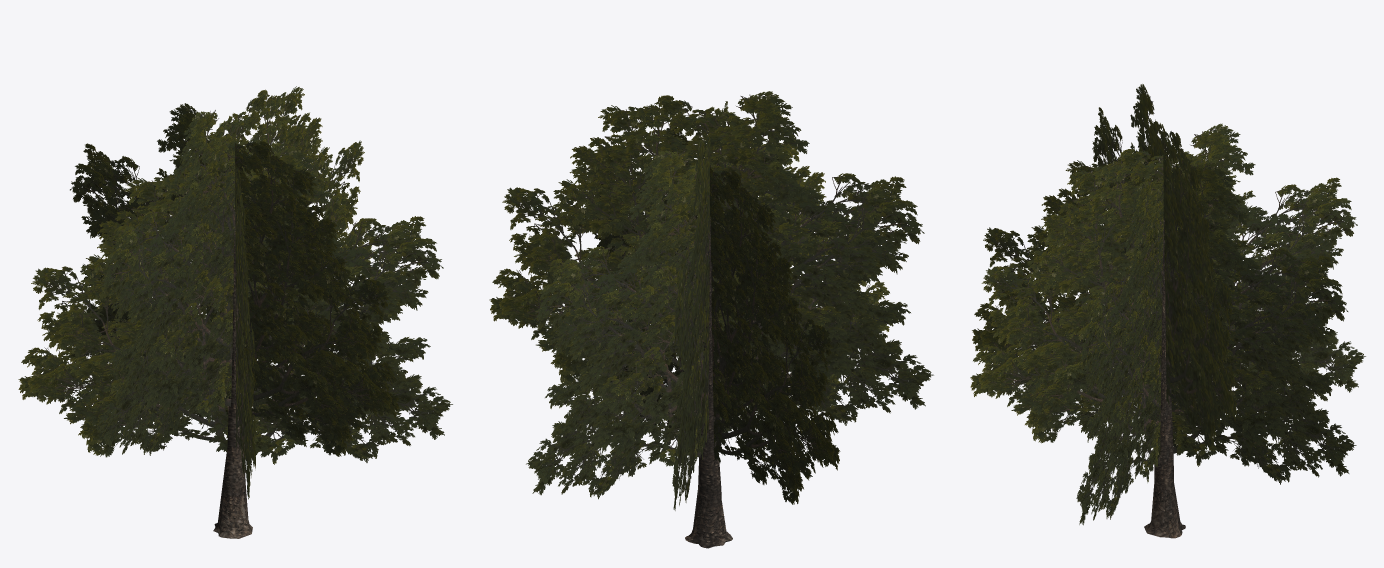
File: tree_rt_4.fbx
The picture shows the model from 3 angles, left to right: view 1: azimuth 30°, elevation 25°; view 2: azimuth 150°, elevation 25°; view 3: azimuth 270°, elevation 25°; orthographic projection. The views are drawn at different scales.
Visible parts, largest first — view 1: tree_rt_4; view 2: tree_rt_4; view 3: tree_rt_4.
Part boxes in pixels (x1,y1,x2,y2): tree_rt_4: (18, 86, 452, 538); tree_rt_4: (489, 91, 933, 548); tree_rt_4: (970, 84, 1365, 538).
Size of the model in its own units: 4.72 by 4.72 by 5.56.
